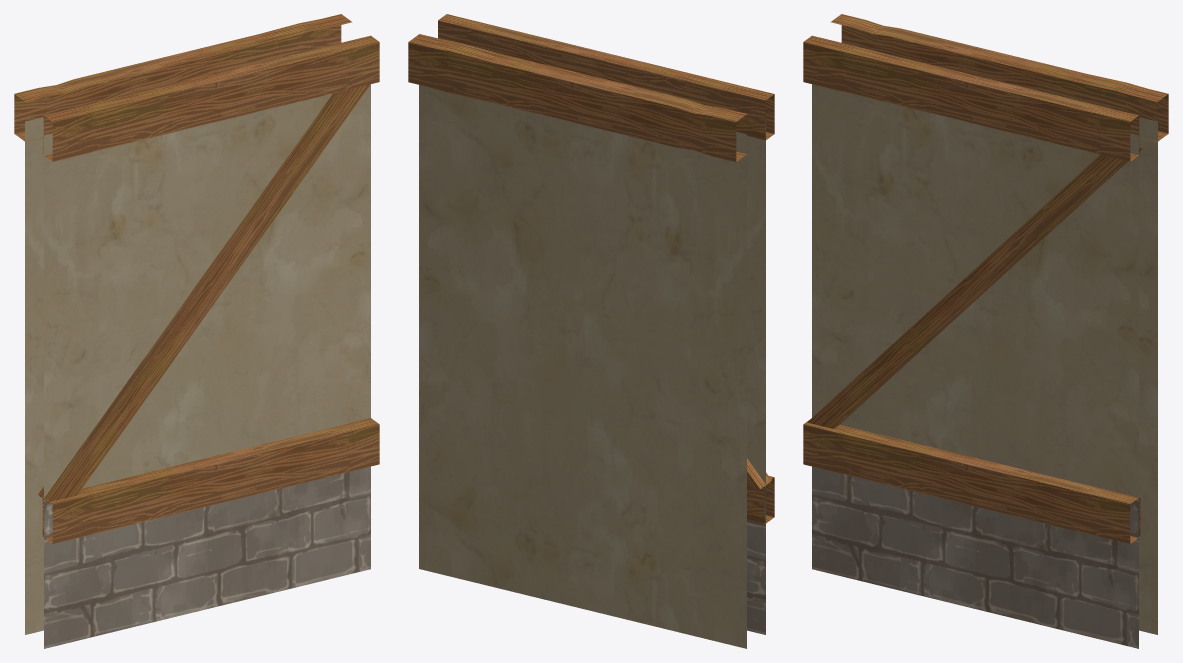
Rendered from Wall_Plaster_Straight_R.gltf.
3 renders of one model, left to right at view 1: azimuth 30°, elevation 25°; view 2: azimuth 150°, elevation 25°; view 3: azimuth 330°, elevation 25°, orthographic.
Visible parts, largest first — view 1: Wall_Plaster_Straight_R; view 2: Wall_Plaster_Straight_R; view 3: Wall_Plaster_Straight_R.
Boxes of the visible parts, <box> form: Wall_Plaster_Straight_R: <box>14,14,379,648</box>; Wall_Plaster_Straight_R: <box>408,14,774,648</box>; Wall_Plaster_Straight_R: <box>803,14,1168,648</box>.
Bounding box in the file's own units: 2 × 3.12 × 0.4065.
3 materials, 3 textured.
